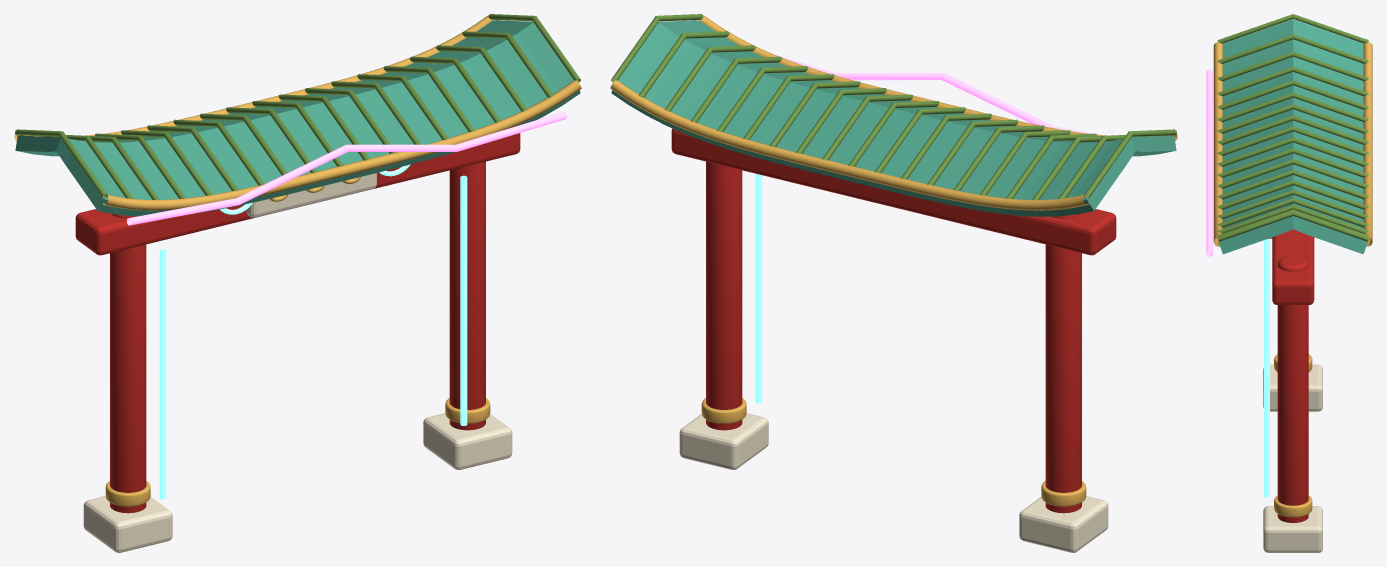
The model's file is stage-neon-arch.glb.
The picture shows the model from 3 angles, left to right: view 1: azimuth 30°, elevation 25°; view 2: azimuth 150°, elevation 25°; view 3: azimuth 270°, elevation 25°; orthographic projection. The views are drawn at different scales.
Visible parts, largest first — view 1: stage-neon-arch; view 2: stage-neon-arch; view 3: stage-neon-arch.
Boxes of the visible parts, bbox=[...] form: stage-neon-arch: bbox=[14, 14, 581, 552]; stage-neon-arch: bbox=[610, 14, 1177, 552]; stage-neon-arch: bbox=[1206, 14, 1372, 552].
Size of the model in its own units: 3.99 by 3.32 by 1.39.
